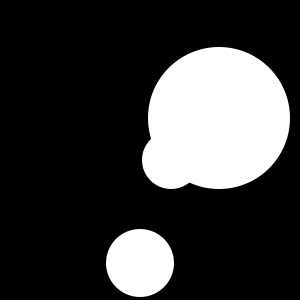rectangle: (148, 47, 290, 189), (106, 229, 174, 297), (142, 131, 200, 189)
